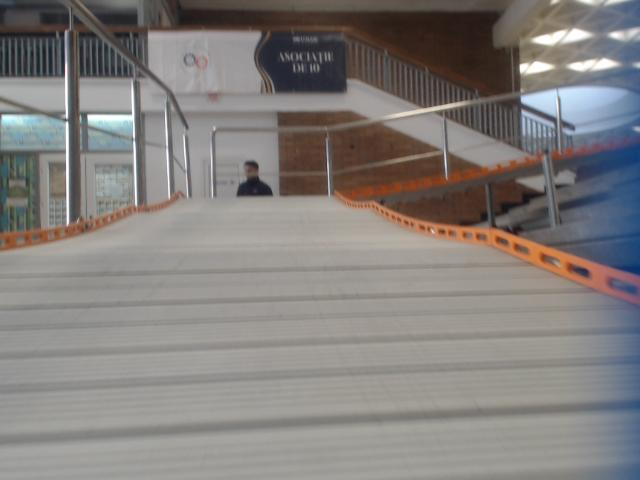rampUp: (0, 197, 639, 479)
ramps-railing: (210, 94, 519, 197), (60, 0, 188, 224), (334, 150, 444, 173), (132, 75, 147, 206), (1, 96, 67, 122), (165, 96, 176, 196), (87, 123, 132, 141), (180, 135, 189, 196), (448, 143, 489, 154), (556, 89, 563, 150), (279, 170, 326, 177)
